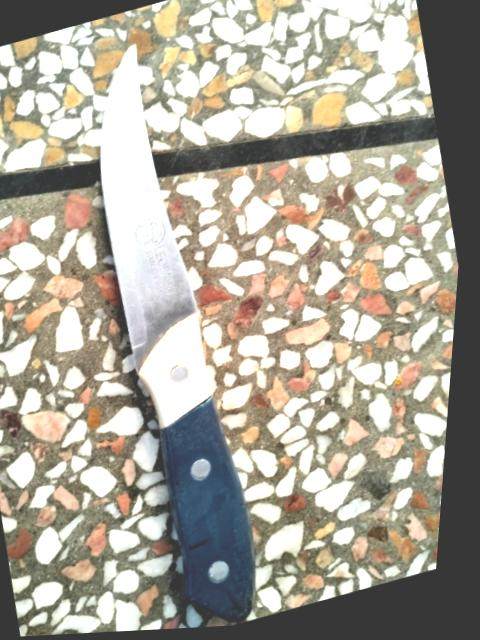Knife: (101, 47, 255, 621)
